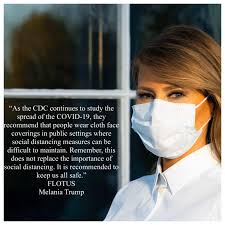mask: (128, 38, 209, 160)
